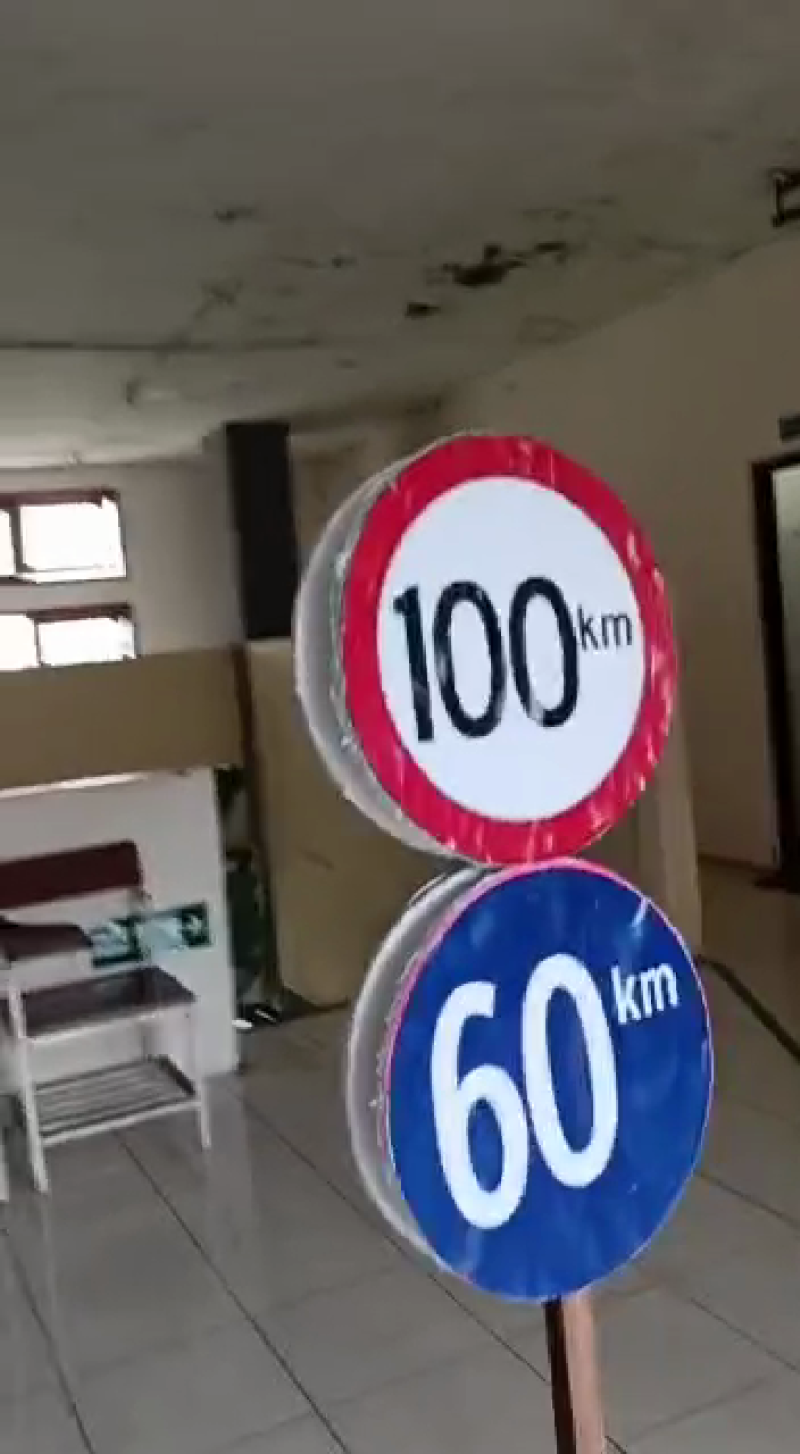batas maksimal 100kmperjam minimal 60kmperjam: (326, 419, 718, 1303)
